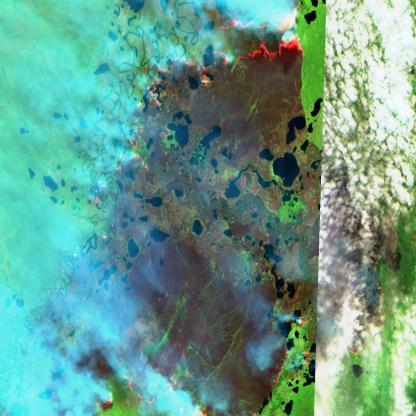fire: (91, 0, 306, 206), (82, 309, 314, 416)
